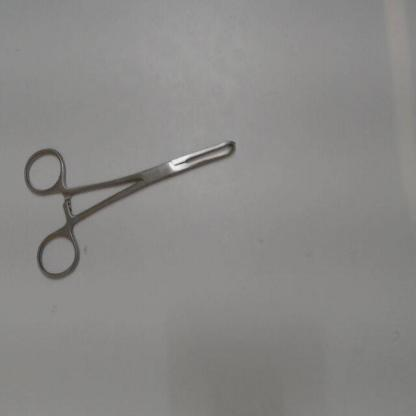Allis Tissue Forceps: (17, 132, 246, 287)
